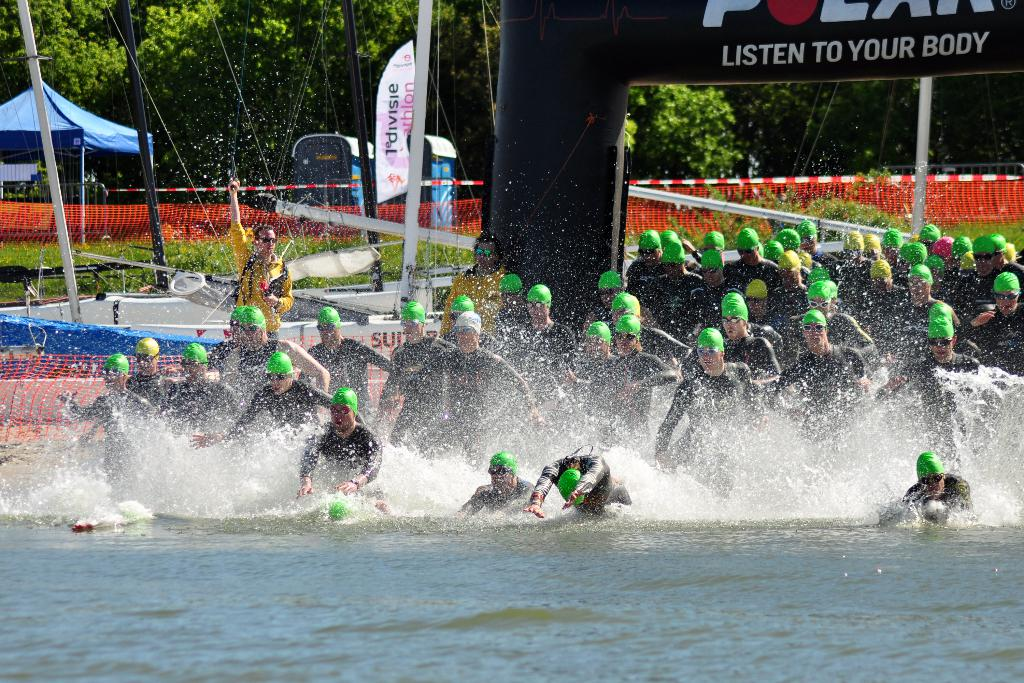Person: (57, 180, 1024, 530)
